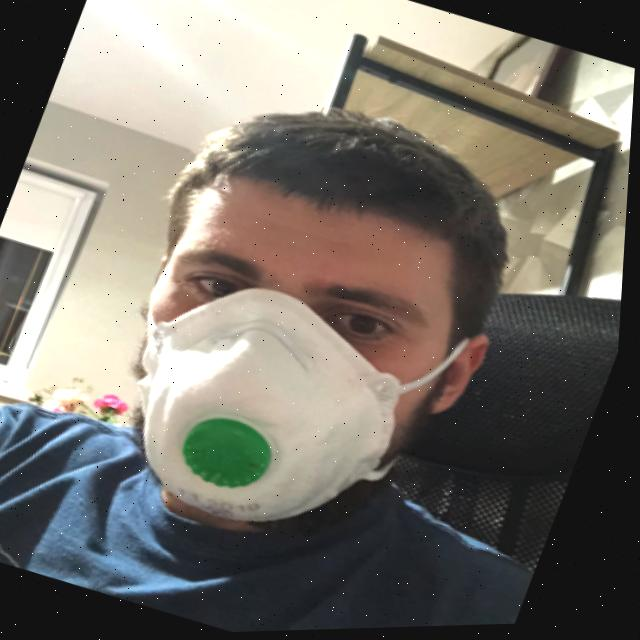Mask: (92, 254, 490, 572)
